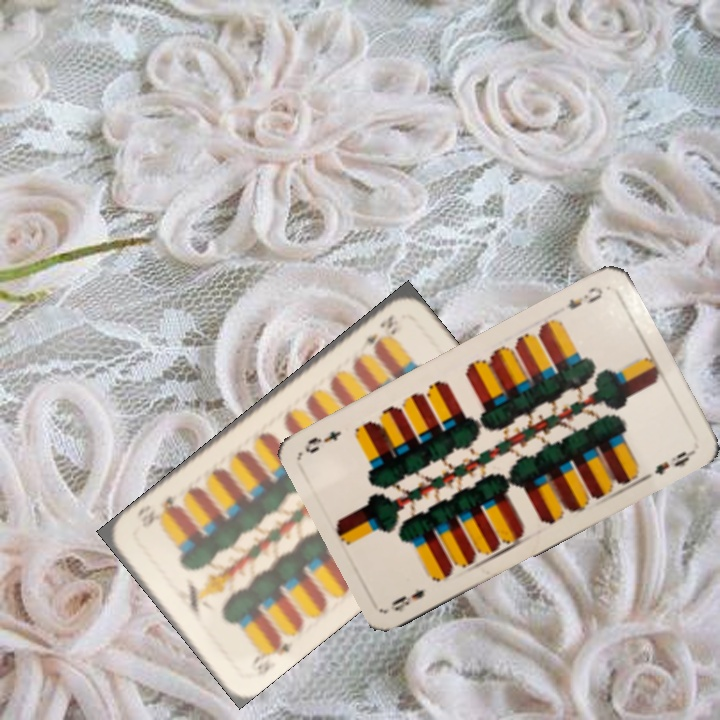E10: (246, 631, 296, 678), (355, 310, 399, 355)
E9: (564, 282, 606, 312), (387, 585, 427, 615)
